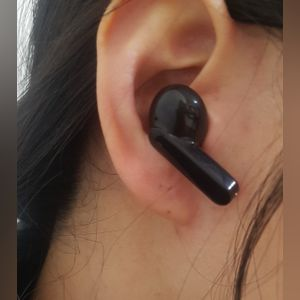earphone: (96, 1, 239, 224)
